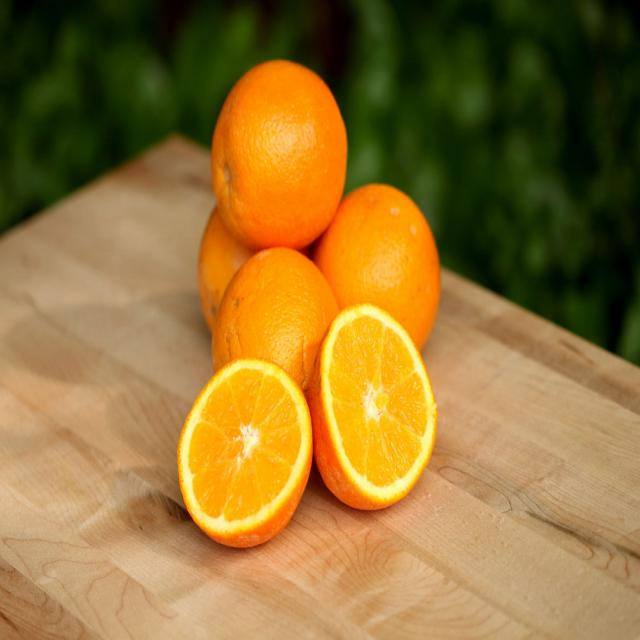Orange: (309, 305, 437, 512), (210, 58, 346, 249), (313, 186, 440, 353), (214, 246, 337, 383)
